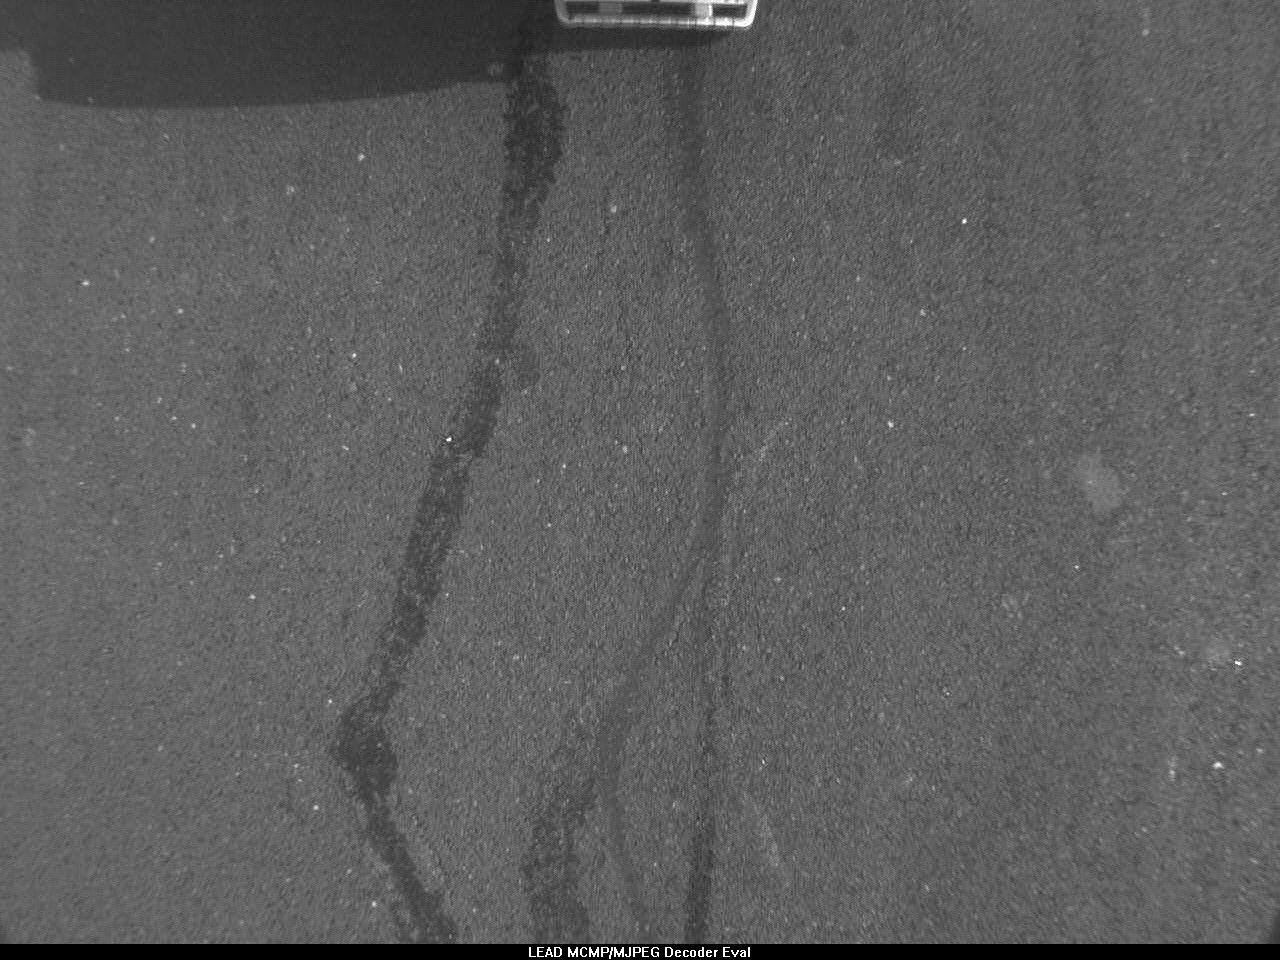sealed: (321, 48, 602, 938)
